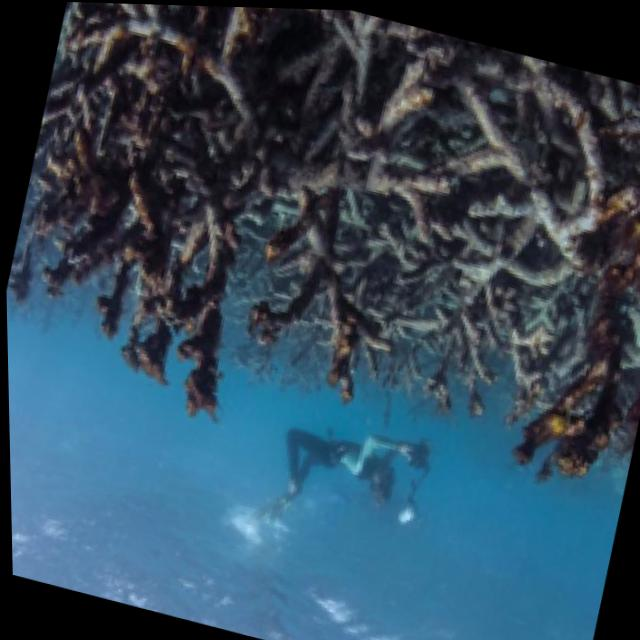Dead Coral: (206, 45, 609, 476), (0, 0, 327, 444), (459, 95, 640, 528)
